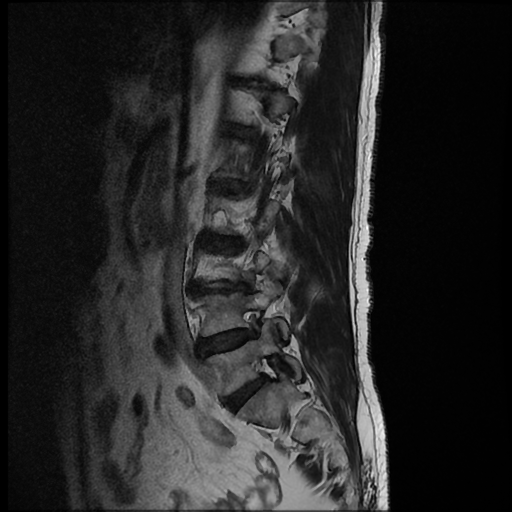RFS1: (228, 299, 272, 348)
